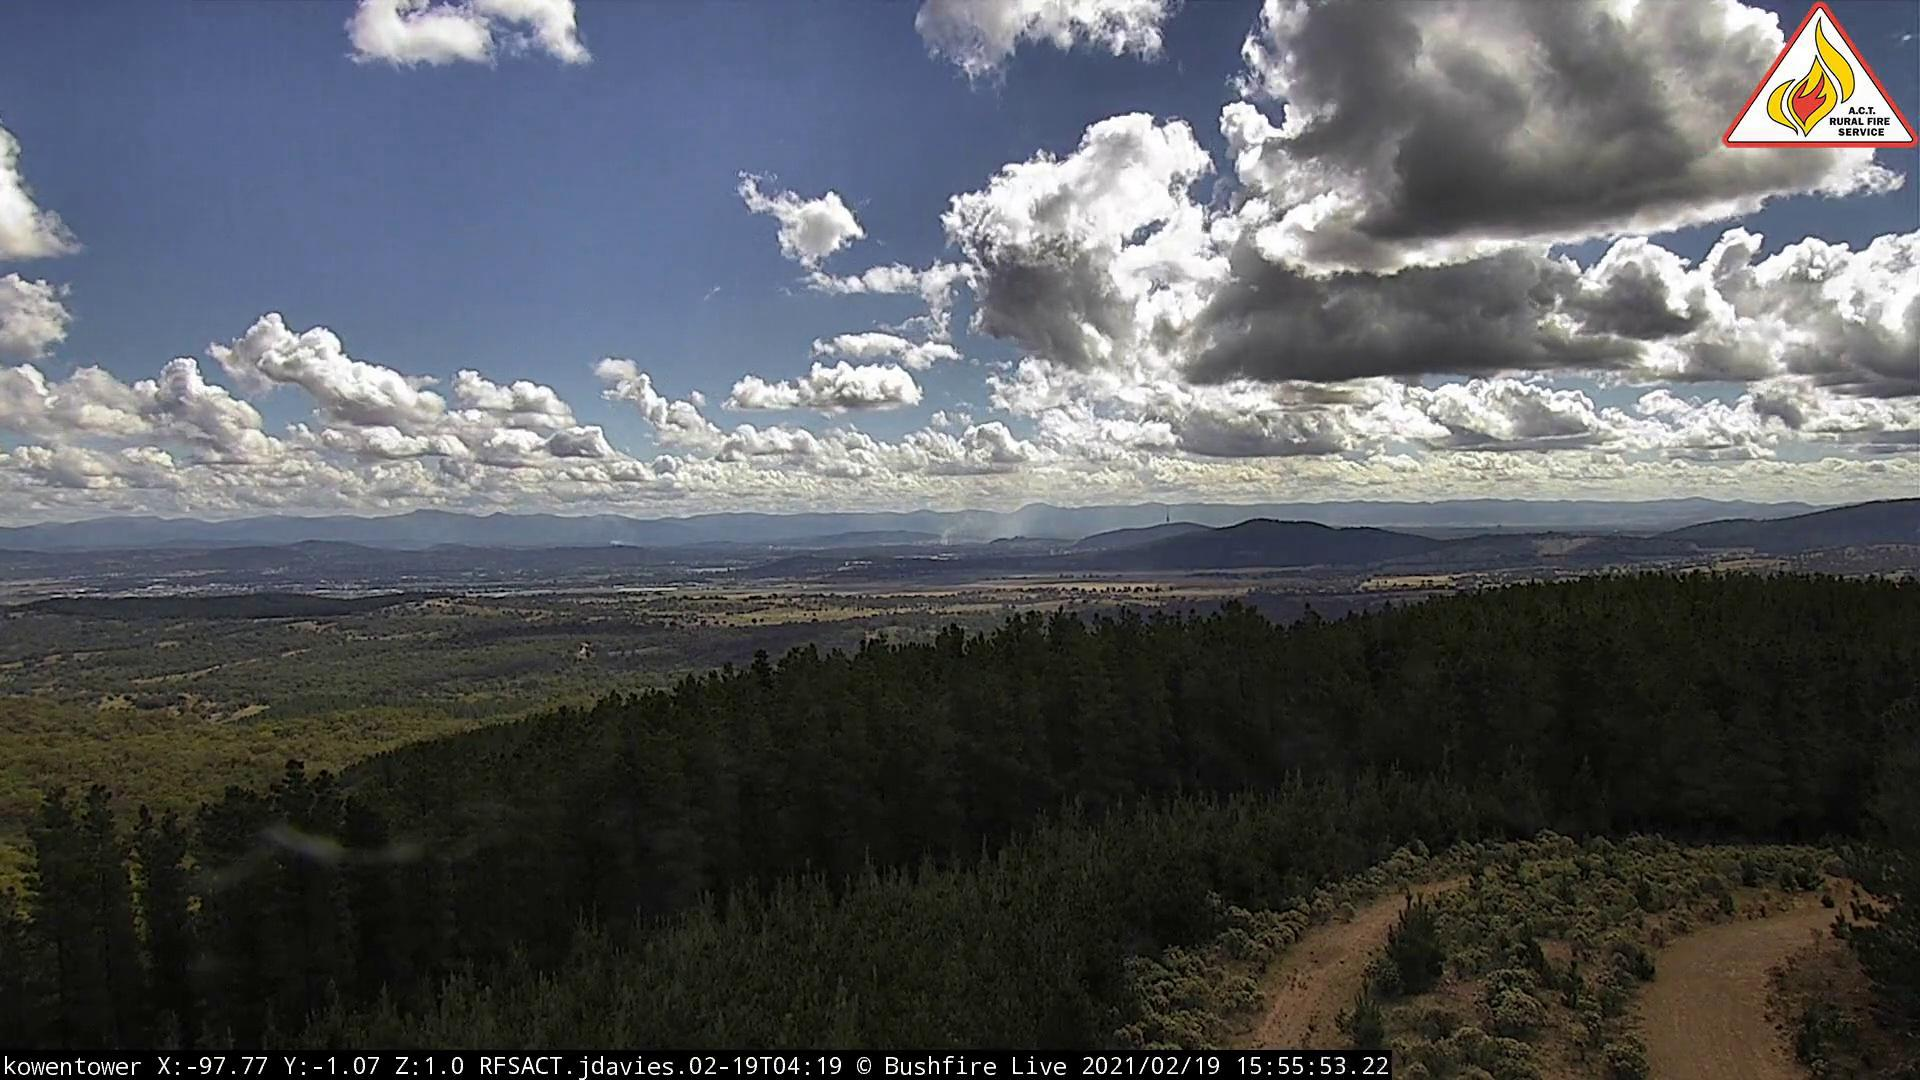Smoke: (939, 506, 1046, 553), (609, 529, 633, 555)
